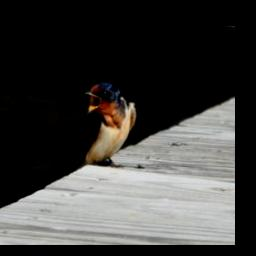Swallow: (75, 78, 137, 167)
